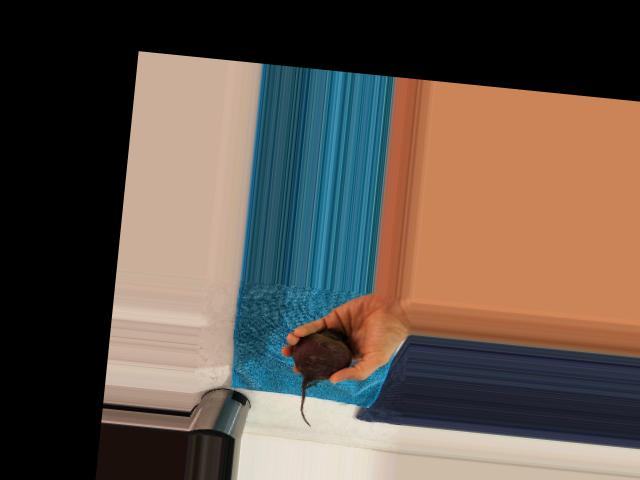beet: (284, 323, 354, 429)
